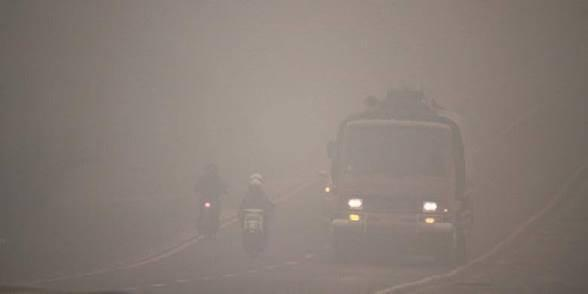Kendaraan: (325, 89, 471, 265), (239, 201, 270, 258), (195, 194, 224, 243)
Manusia: (192, 160, 229, 211), (238, 172, 276, 221)
